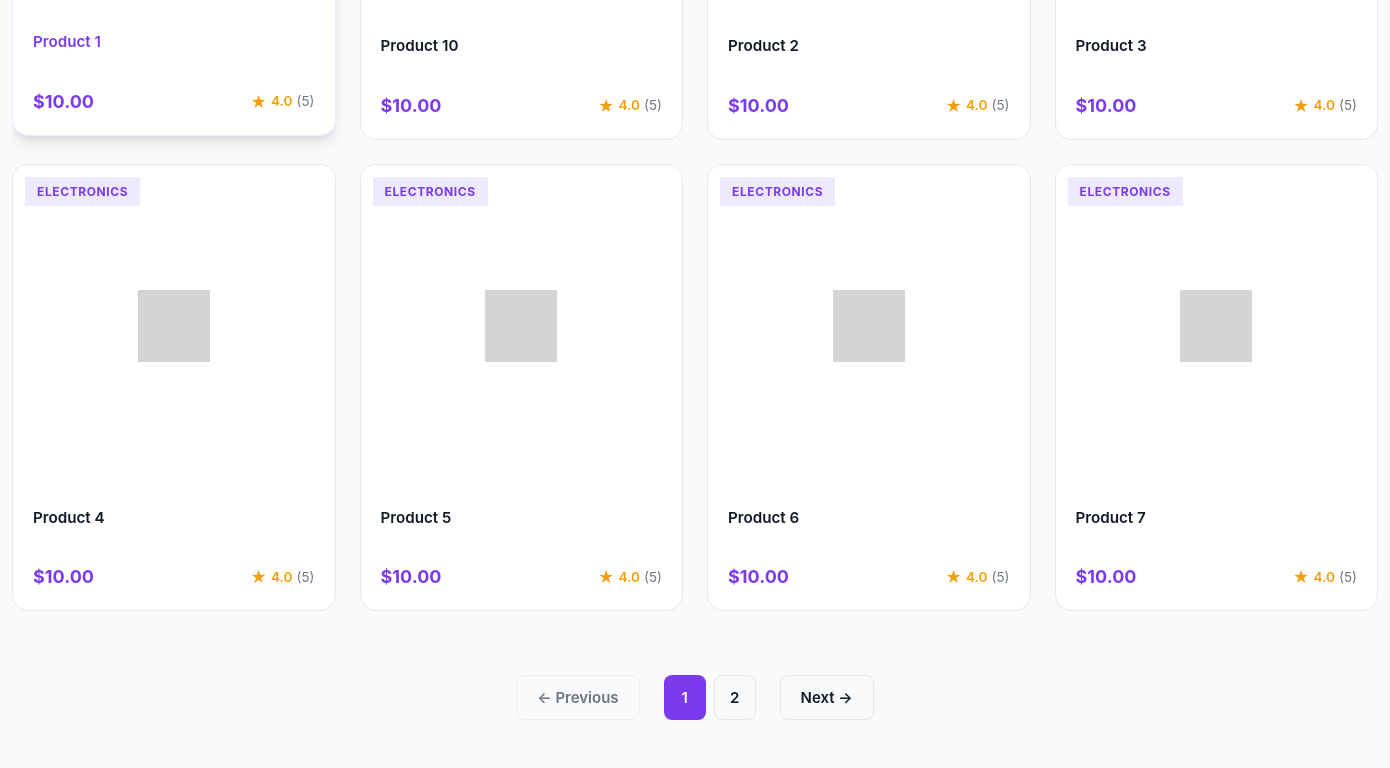
Scenario: HomeView › paginates products correctly
This screenshot has width=1390, height=768.
(page scrolled)
Expected: the element with test id "pagination" is shown, [516,675,874,720]
Note: Go to next page
Step 1. Click the button with class "next" → {"x": 827, "y": 698}, box [780,675,874,720]
(page scrolled)
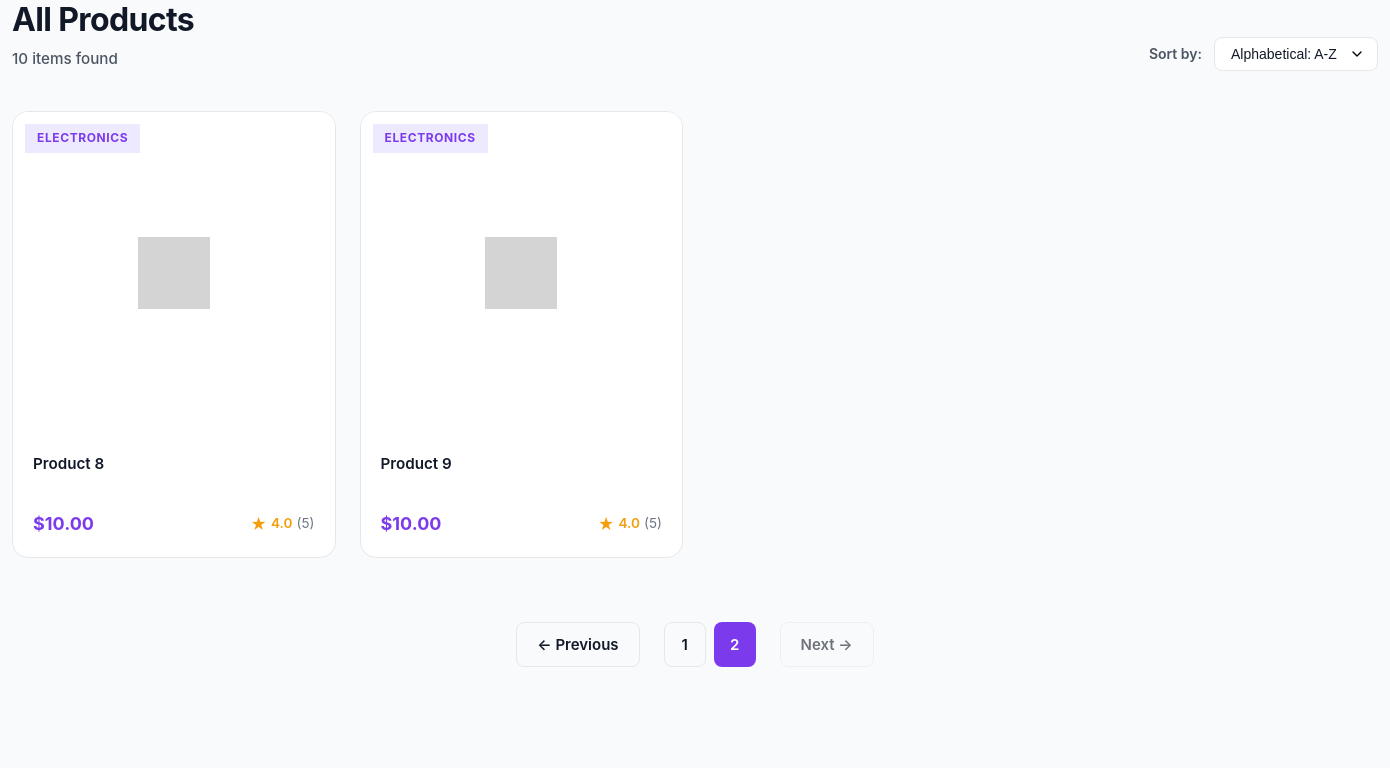
Expected: the number of "ProductCard" components is 2, [12,111,336,558]; [360,111,683,558]
